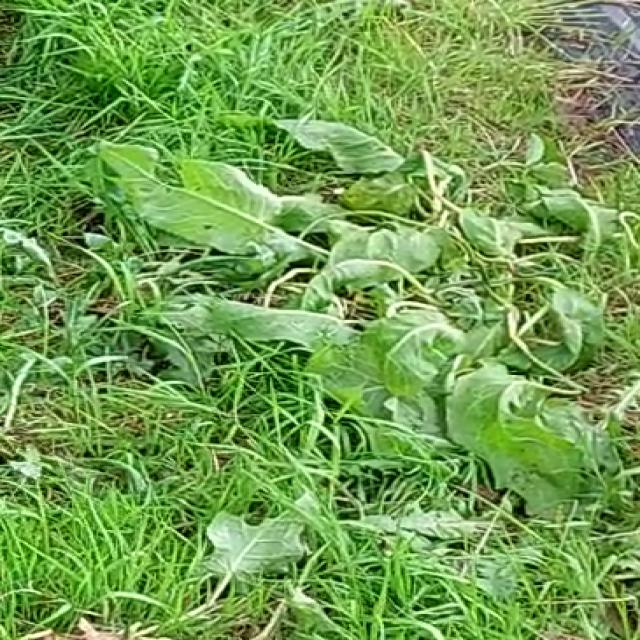organic waste: (77, 100, 638, 475)
